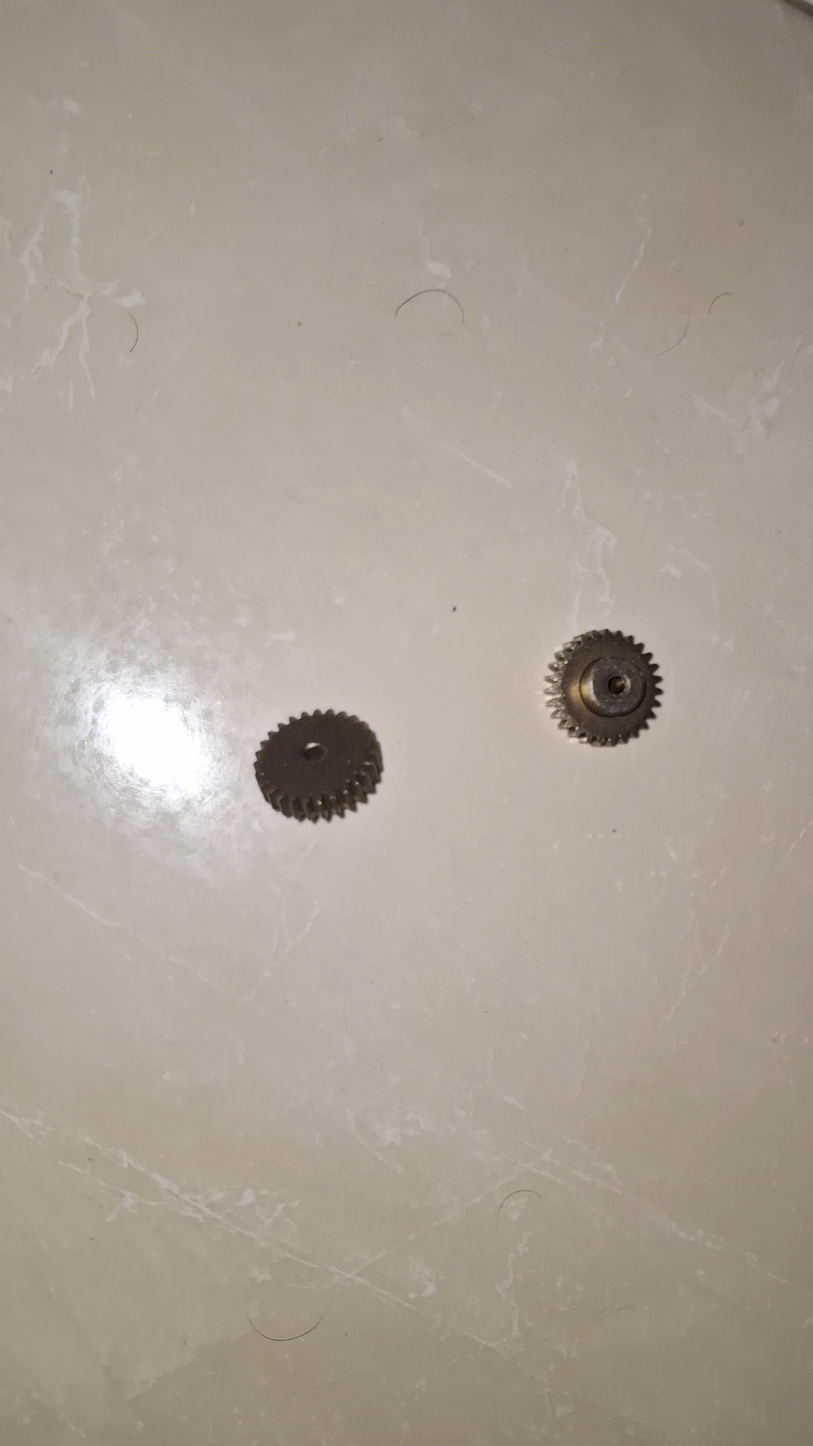spur gear: (256, 710, 382, 822), (546, 630, 661, 745)
